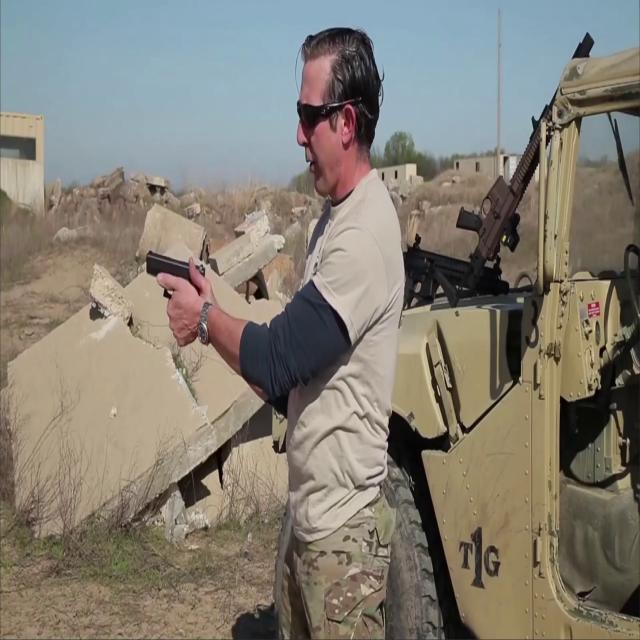gun: (146, 249, 206, 329)
